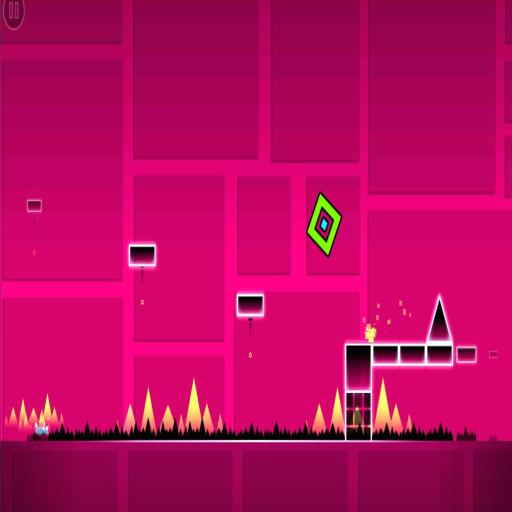block: (341, 331, 455, 451), (235, 289, 265, 322), (124, 243, 158, 268), (456, 343, 478, 371), (20, 199, 46, 217), (487, 346, 499, 361)
player: (307, 192, 342, 257)
spike: (428, 298, 451, 341), (373, 379, 390, 432), (185, 380, 200, 430), (141, 388, 154, 431), (331, 388, 342, 431), (312, 404, 325, 433), (391, 404, 401, 434), (123, 405, 134, 432), (202, 404, 212, 433), (161, 406, 172, 430), (351, 407, 361, 431), (49, 408, 58, 429), (8, 408, 17, 428), (18, 400, 25, 425), (43, 395, 50, 420), (28, 409, 36, 425), (22, 415, 29, 430), (178, 415, 184, 432), (406, 415, 411, 432), (217, 414, 222, 431), (58, 414, 63, 427), (4, 417, 7, 428)
